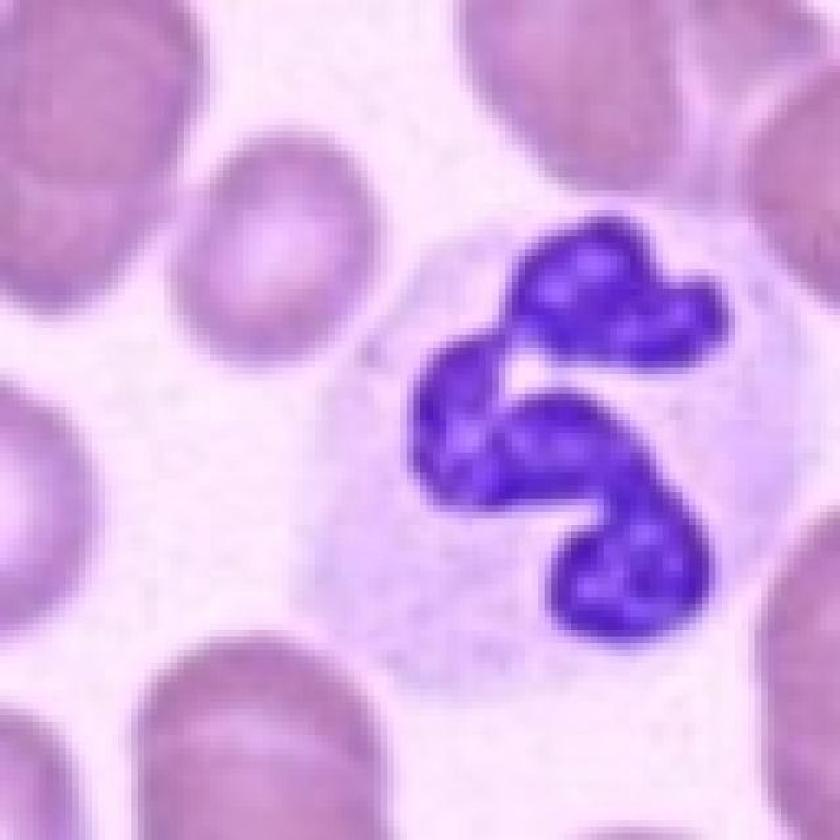neutrophil: (211, 186, 822, 714)
